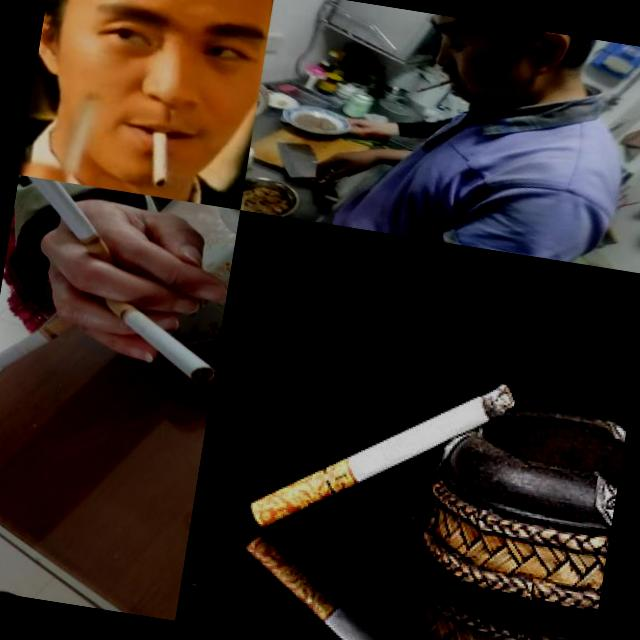smoke: (245, 341, 522, 570), (5, 175, 136, 281), (90, 290, 224, 386), (0, 298, 83, 410), (146, 130, 178, 188), (416, 73, 454, 98)
